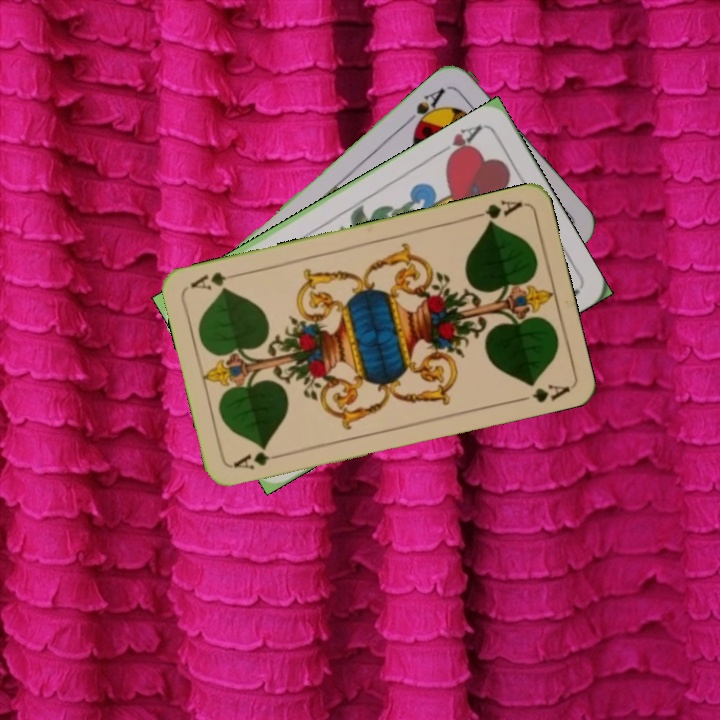GA: (467, 196, 525, 228), (229, 445, 288, 472)
HA: (432, 120, 486, 165)
SA: (402, 83, 448, 133)
